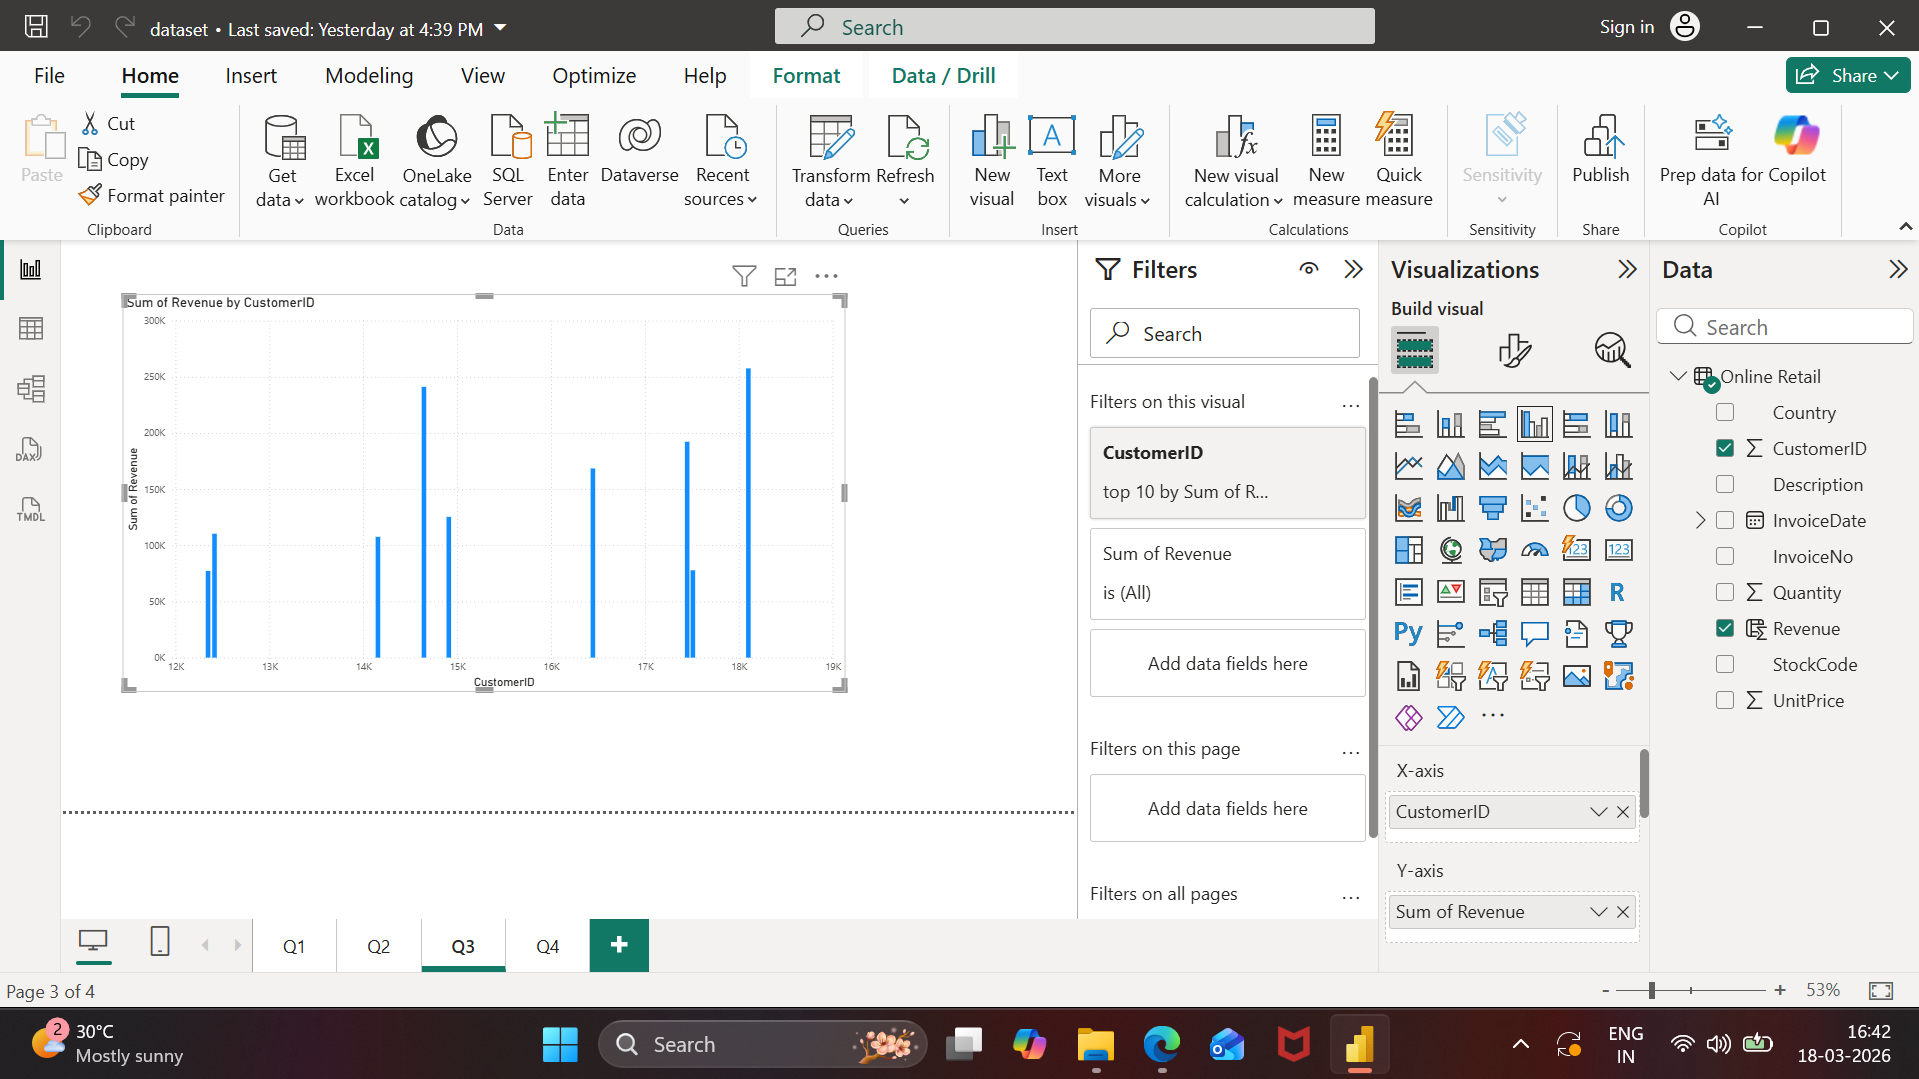

This screenshot's page, from the dashboard's own definition file:
{"tool":"powerbi","page":{"name":"Q3","canvas":[1280,720],"ordinal":2},"visuals":[{"type":"clusteredColumnChart","fields":{"Category":["Online Retail.CustomerID"],"Y":["Sum(Online Retail.Revenue)"]},"box":[77.5,68,910.9,500.8],"z":0}]}

Visuals, with their boxes on the page's 1280x720 design canvas (x1, y1, x2, y2). These are canvas units, not pixel positions in the 1919x1079 screenshot, which may show the page scaled, cropped or inside an application window:
clusteredColumnChart - Online Retail.CustomerID x Sum(Online Retail.Revenue): detection(78, 68, 988, 569)
